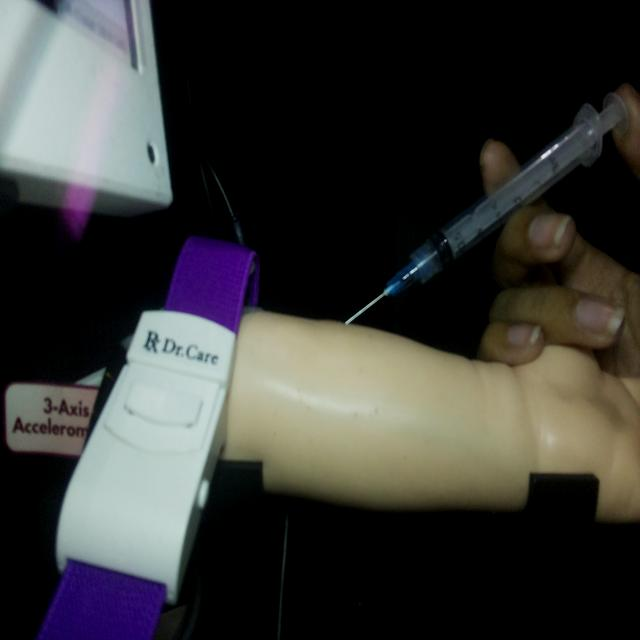29 degrees: (343, 86, 629, 328)
